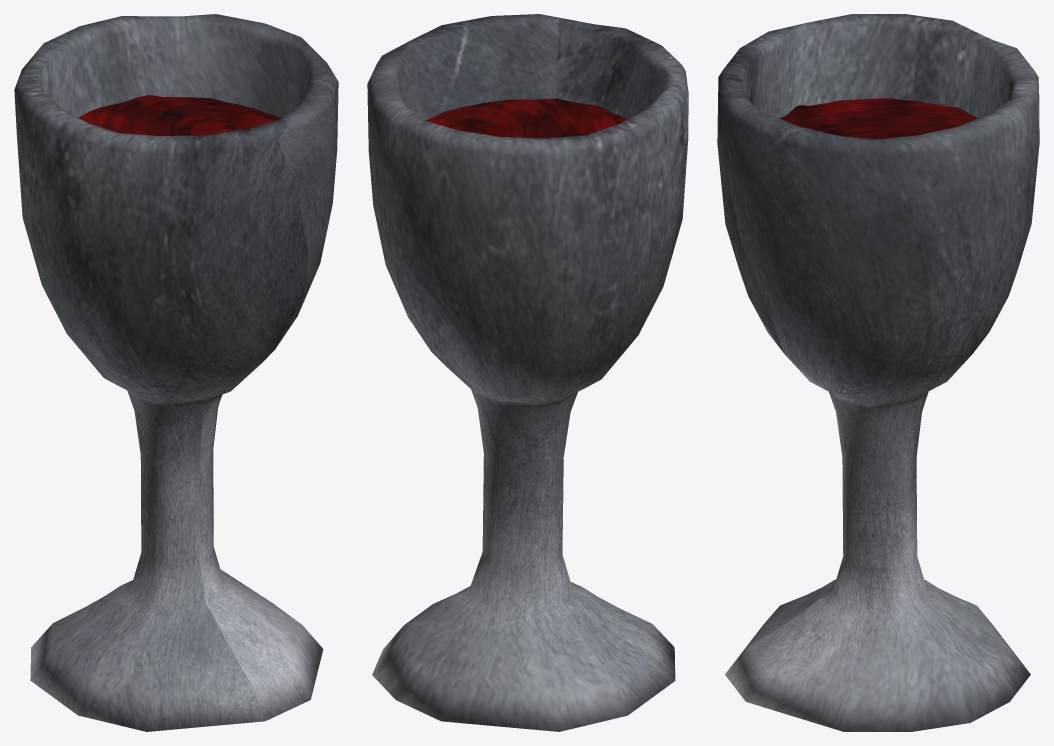
The model's file is Ingredient_Chalice_With_Blood.fbx.
3 views of the same model, side by side, from view 1: azimuth 30°, elevation 25°; view 2: azimuth 150°, elevation 25°; view 3: azimuth 270°, elevation 25° (orthographic).
Visible parts, largest first — view 1: Icosphere, Circle; view 2: Icosphere, Circle; view 3: Icosphere, Circle.
Part boxes in pixels (left/top/right/bottom): Icosphere: left=14, top=14, right=338, bottom=731; Circle: left=78, top=95, right=281, bottom=135; Icosphere: left=367, top=14, right=688, bottom=731; Circle: left=425, top=98, right=627, bottom=138; Icosphere: left=717, top=14, right=1039, bottom=731; Circle: left=780, top=98, right=977, bottom=139.
Bounding box in the file's own units: 200 × 405 × 200.
